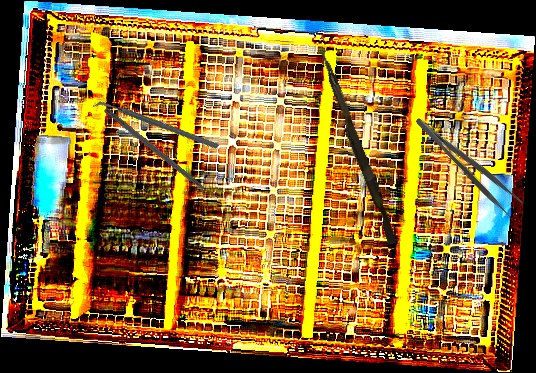Chopper: (91, 62, 220, 189)
Dressing Forceps: (412, 107, 526, 220)
Hook Surgical: (102, 107, 222, 206)
Pusher: (311, 48, 403, 246)
